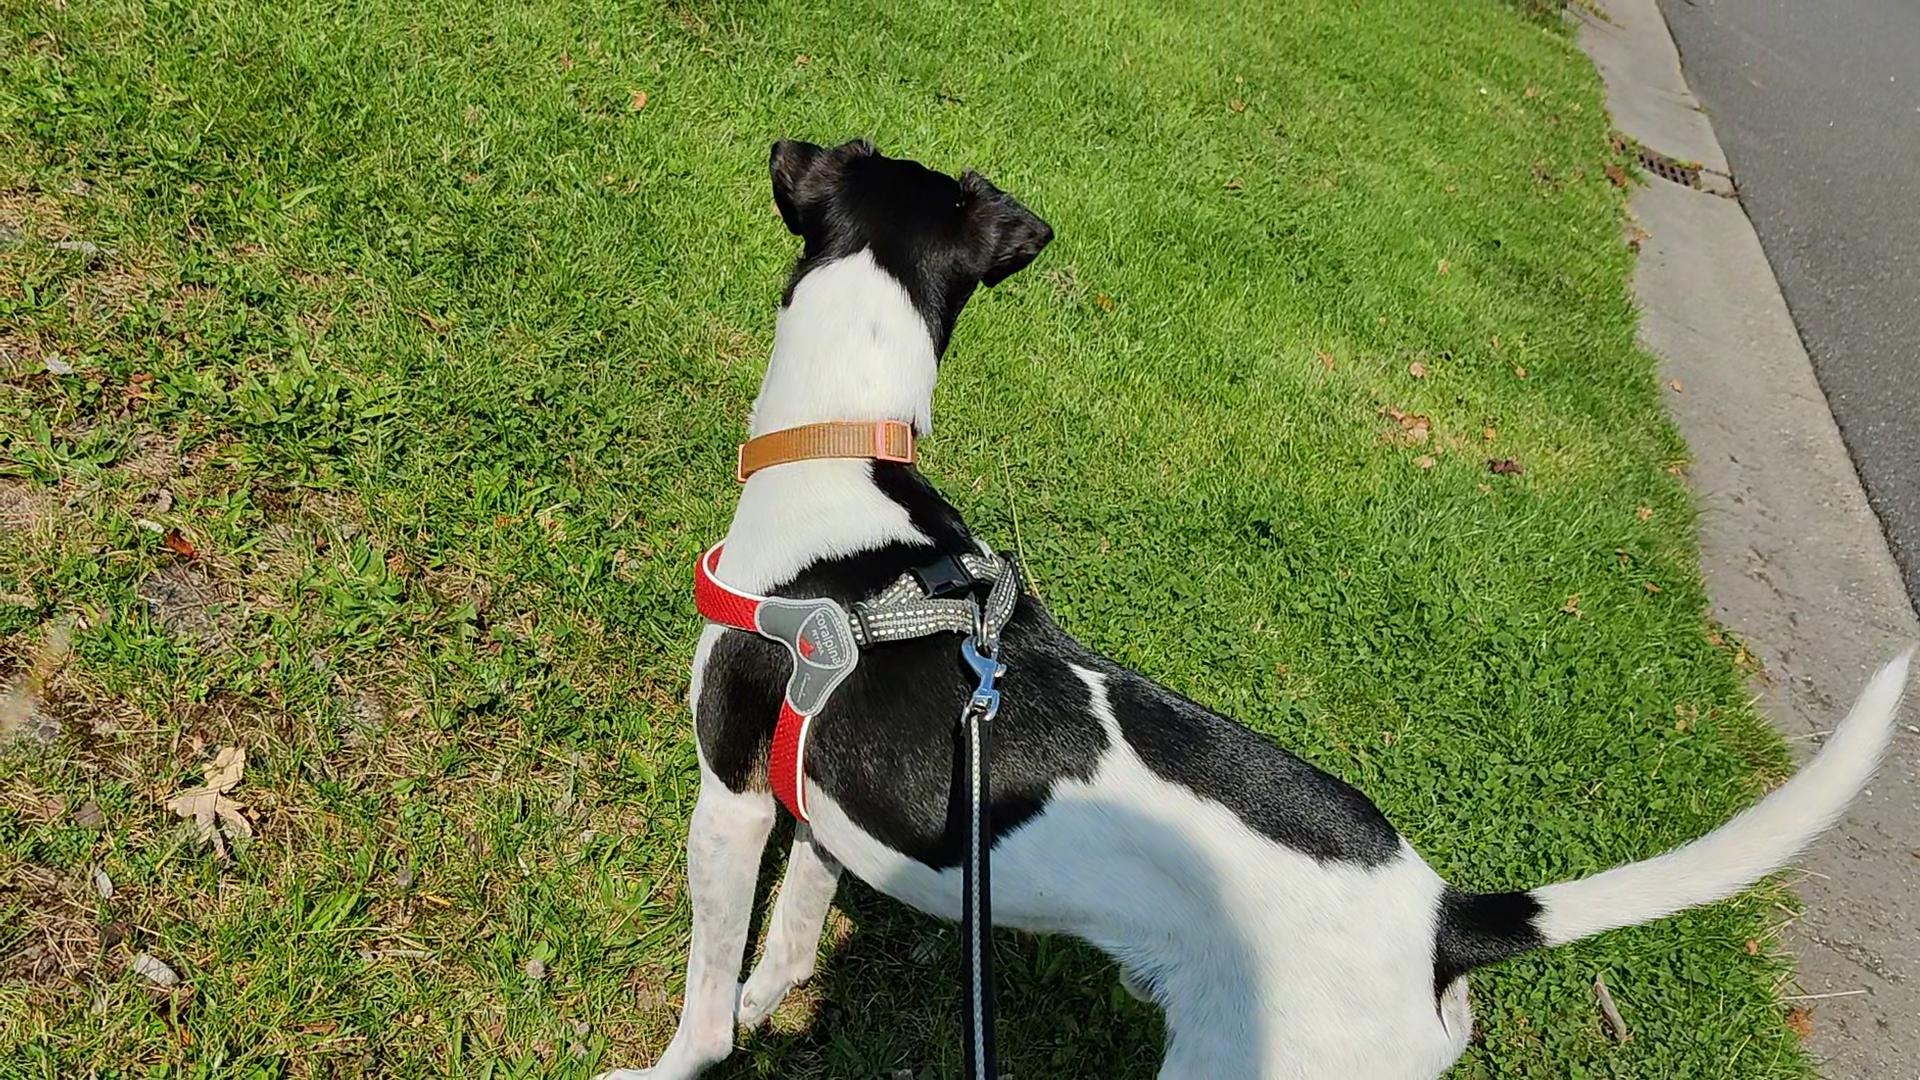Dog: (572, 132, 1915, 1079)
